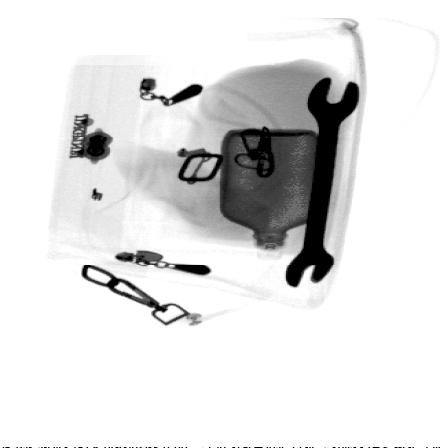Wrench: (284, 75, 362, 289)
